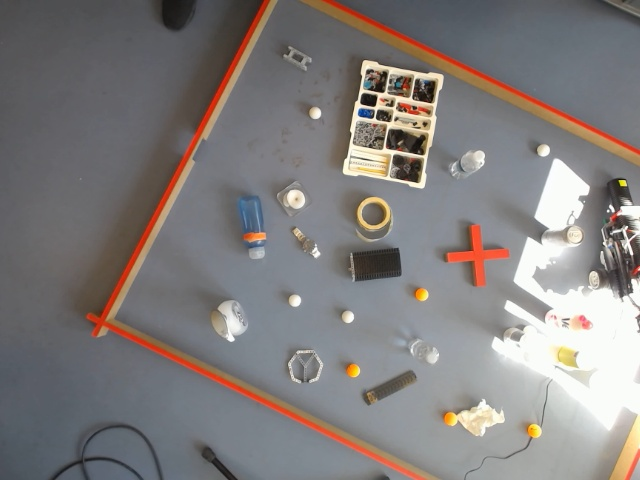orange: (211, 308, 226, 337), (413, 287, 431, 303), (345, 363, 361, 378), (527, 424, 541, 439), (444, 411, 457, 426)
robot: (600, 171, 640, 401)
white: (534, 142, 552, 159), (425, 347, 440, 366), (340, 309, 356, 325), (287, 293, 303, 309), (590, 270, 599, 284)
